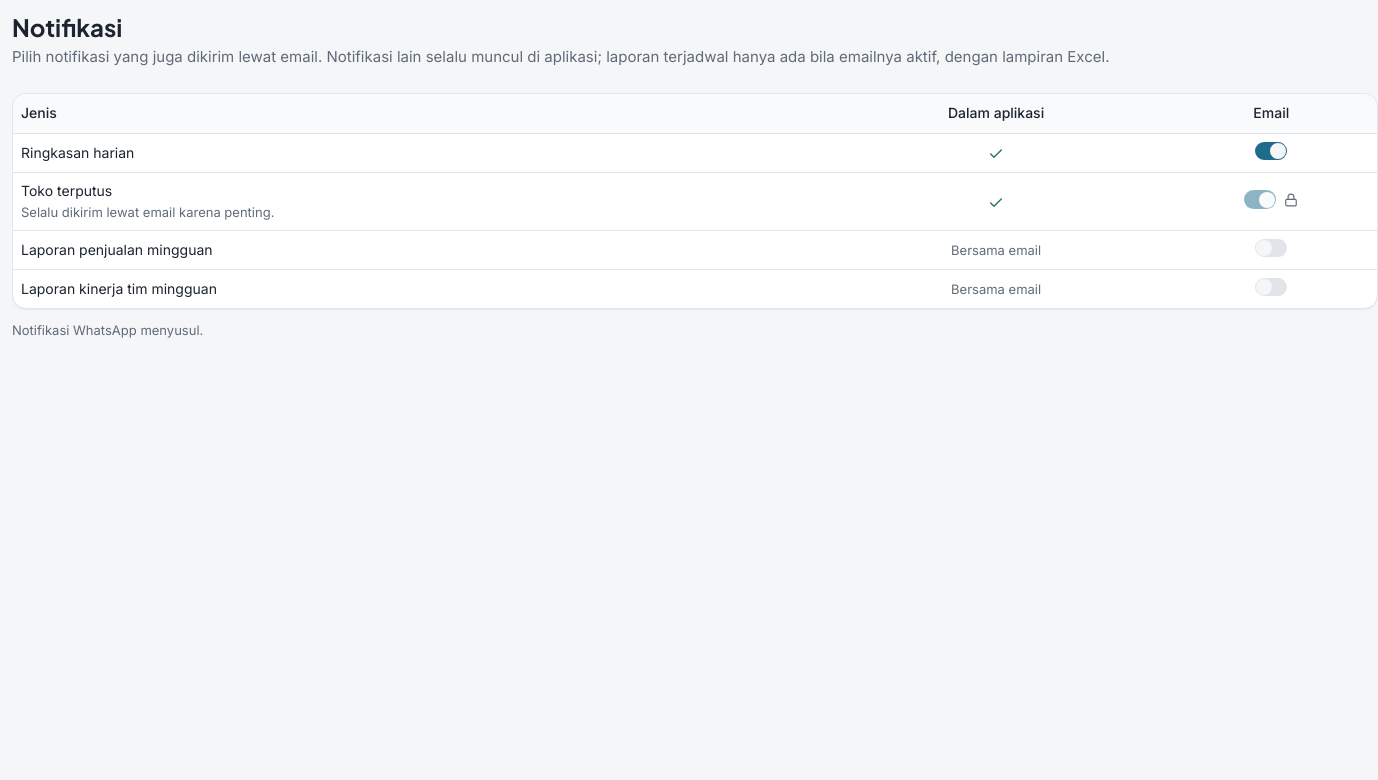
it: NotificationSettingsView (L44) › puts the switch back when the api refuses
Click the switch named "Email untuk Ringkasan harian" at (1271, 151), box left=1255, top=142, right=1287, bottom=160
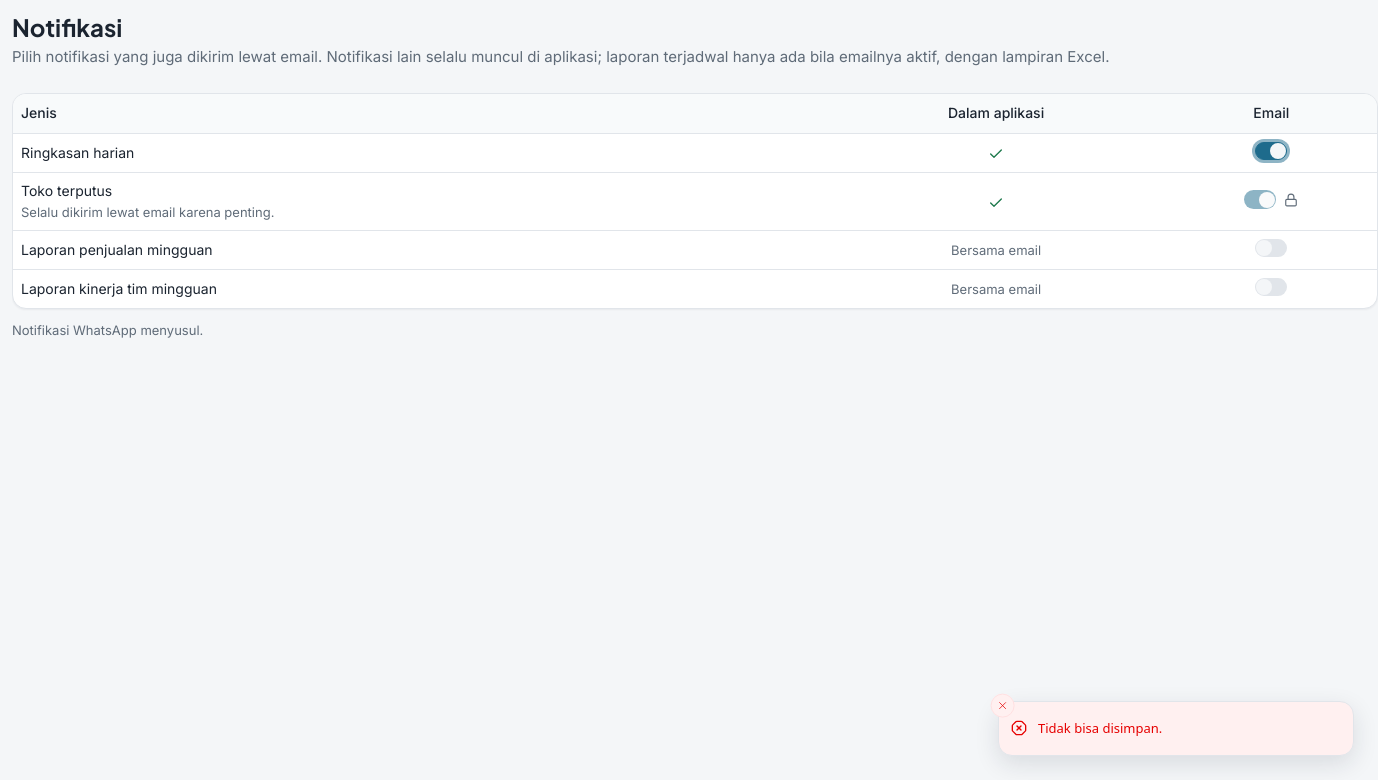
expect the text "Tidak bisa disimpan." is shown: met, box left=1038, top=718, right=1162, bottom=739
